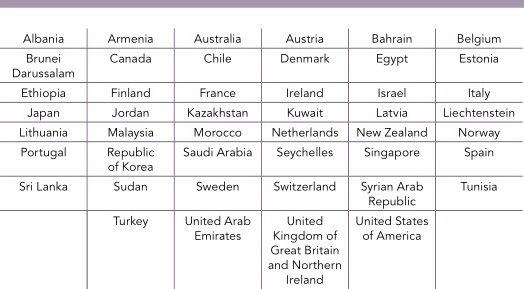column: (267, 1, 343, 289), (355, 1, 430, 289), (443, 1, 516, 289), (183, 1, 253, 289), (12, 1, 69, 289), (106, 1, 154, 289)
row: (1, 87, 524, 101), (1, 52, 524, 65), (1, 127, 524, 140), (1, 160, 524, 173), (1, 180, 524, 193), (1, 195, 524, 208), (1, 230, 524, 243), (1, 31, 524, 43), (1, 107, 524, 119), (1, 146, 524, 158), (1, 243, 524, 255), (1, 259, 524, 271), (1, 274, 524, 286), (1, 214, 523, 226), (1, 67, 524, 78)
